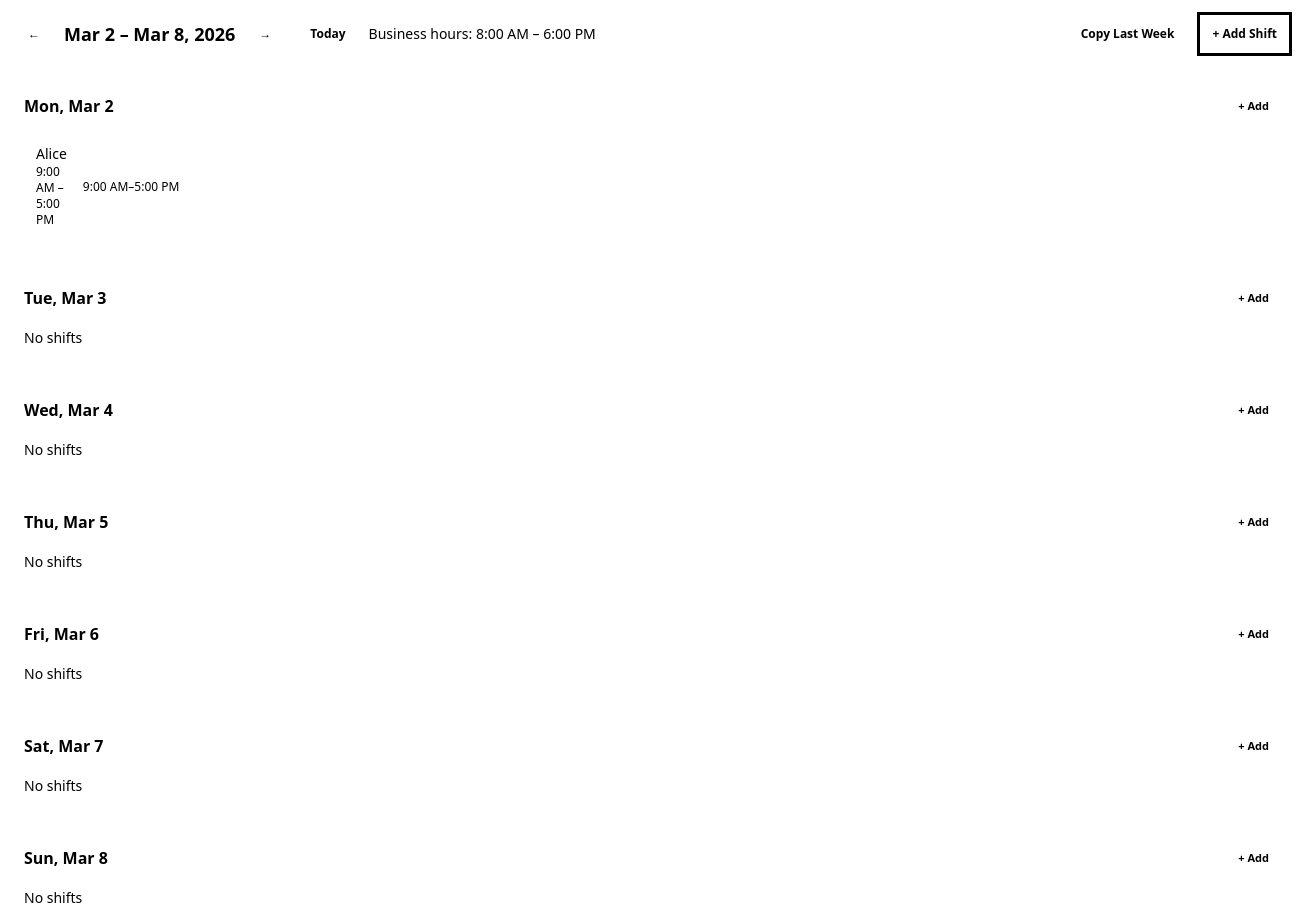
Test: WeekScheduleGrid › shows confirmation on first Copy Last Week click
Click the button "Copy Last Week": click(1128, 34) [1066,12,1189,56]
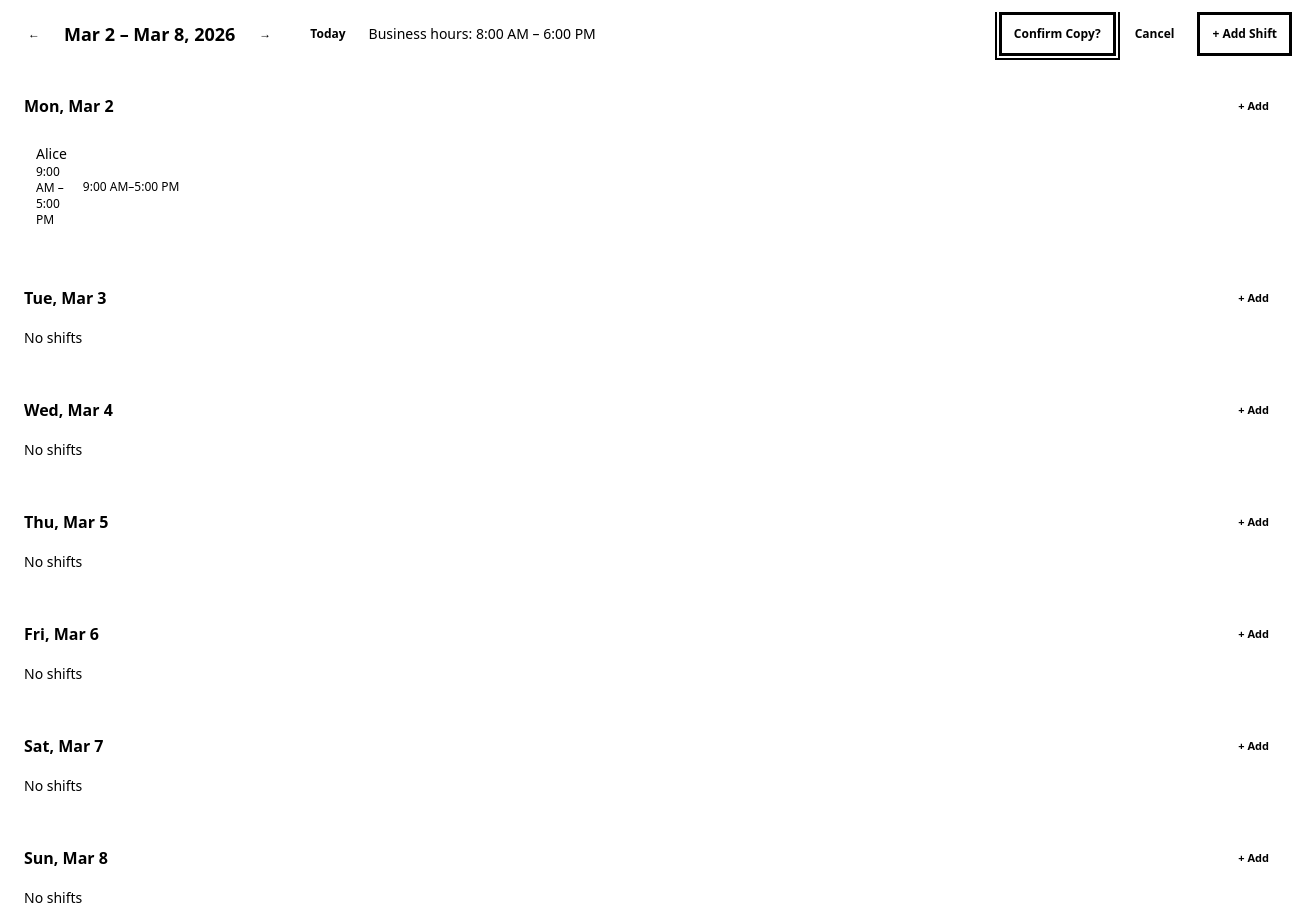
Check: the button "Confirm Copy?" is shown, box [999,12,1116,56]
Check: the button with aria-label "Cancel copy" is shown, box [1120,12,1189,56]
